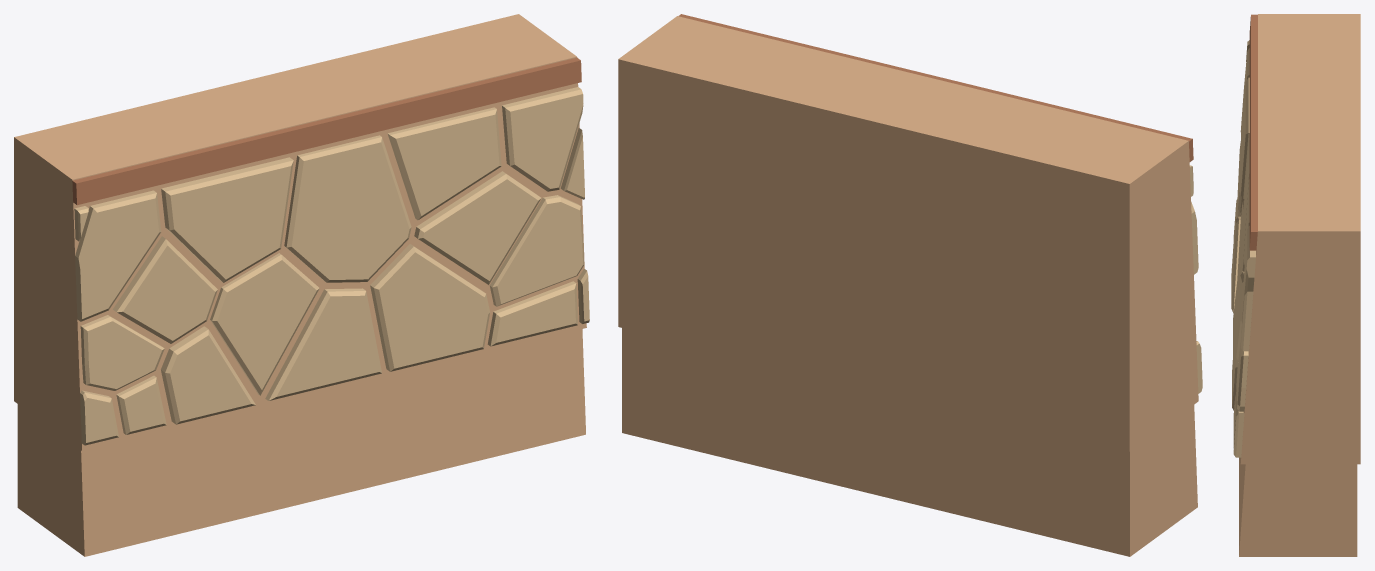
The model's file is terrace_wall_course.fbx.
3 renders of one model, left to right at view 1: azimuth 30°, elevation 25°; view 2: azimuth 150°, elevation 25°; view 3: azimuth 270°, elevation 25°, orthographic. The views are drawn at different scales.
Parts seen in each view (by area): view 1: Terrace_Wall_Course; view 2: Terrace_Wall_Course; view 3: Terrace_Wall_Course.
Boxes of the visible parts, x1,y1,x2,y2 form: Terrace_Wall_Course: [14, 14, 589, 556]; Terrace_Wall_Course: [618, 14, 1202, 556]; Terrace_Wall_Course: [1231, 14, 1360, 556].
Size of the model in its own units: 300 by 210 by 75.55.
